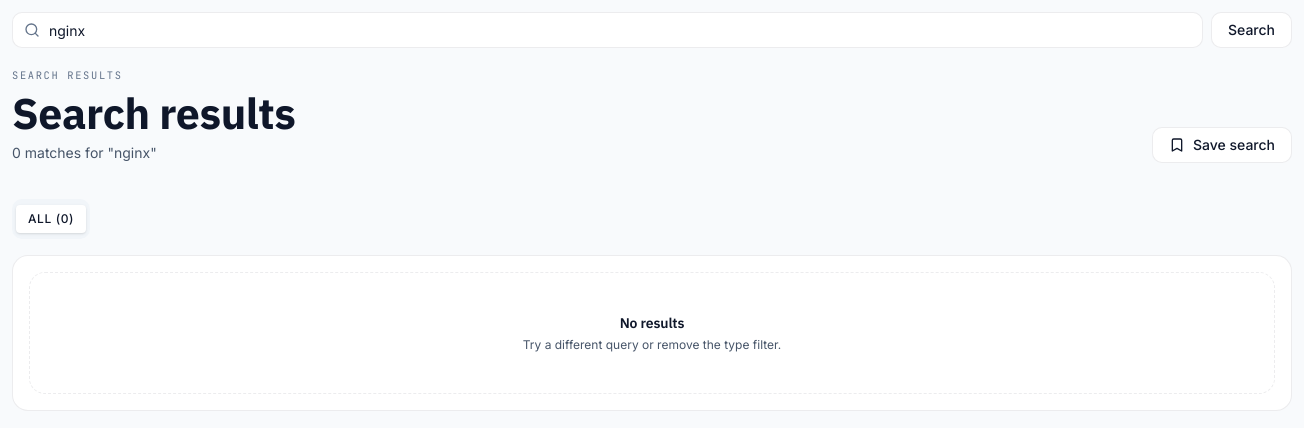
Test: SearchResults › keeps query context in the description and can clear back to the empty state
The image size is (1304, 428).
Expected: the heading "Search results" is shown, [12,90,295,137]
Expected: the text "0 matches for \"nginx\"" is shown, [12,144,157,161]
Clear the field with placeholder "Refine search...": [608, 30] box [12,12,1203,48]
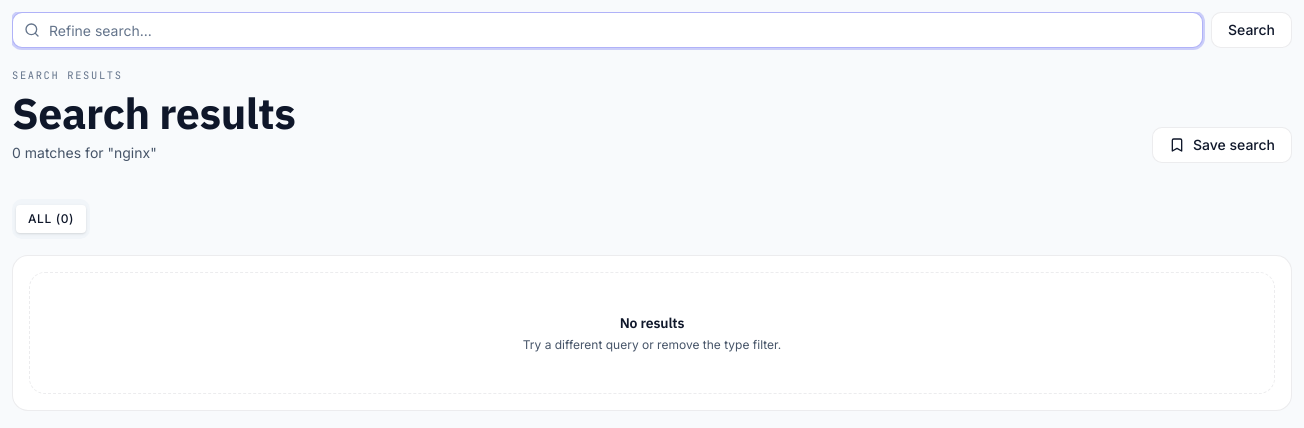
Click the button "Search": [1252, 30] box [1211,12,1292,48]
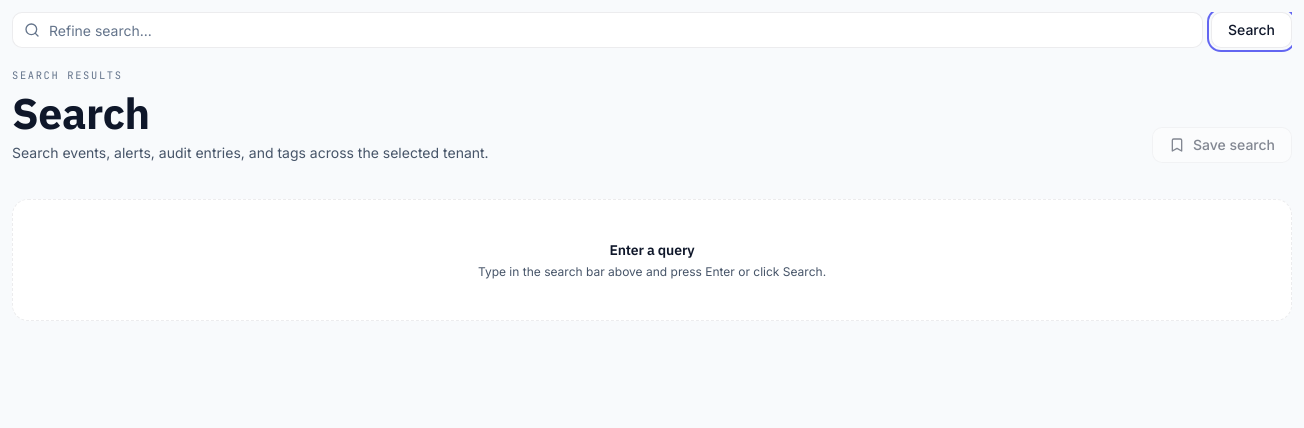
Expected: the heading "Search" is shown, [12,85,150,141]
Expected: the button "Save search" is disabled, [1152,127,1292,163]
